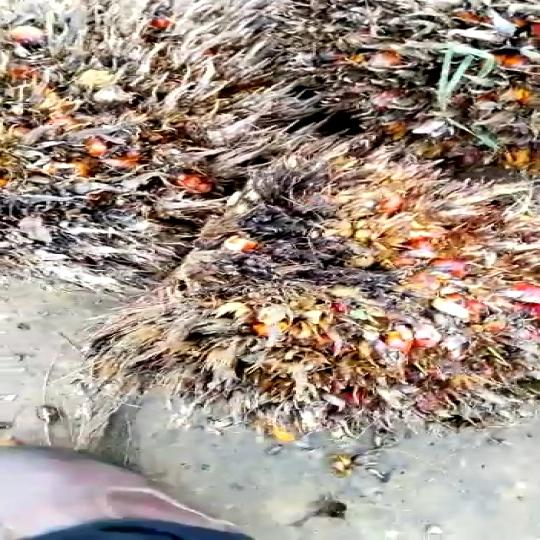terlalu masak: (139, 141, 540, 420)
